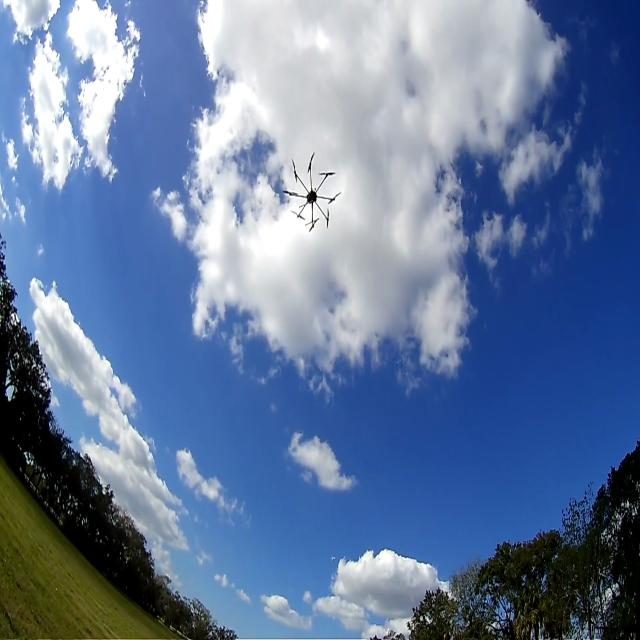drone: (284, 148, 344, 238)
